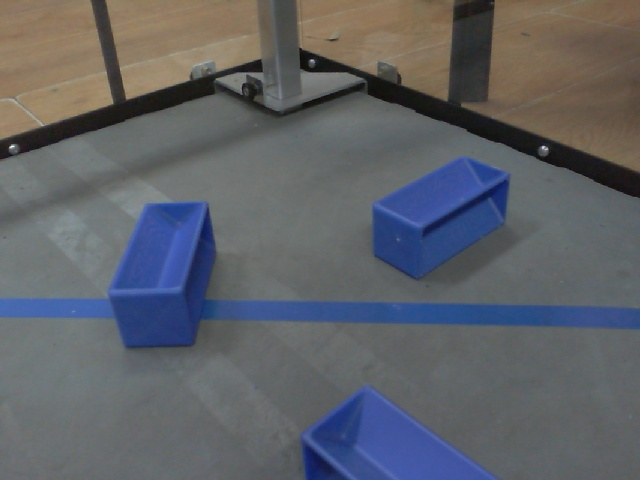BlueSample: (291, 379, 506, 480), (368, 154, 514, 289), (102, 195, 224, 352)
